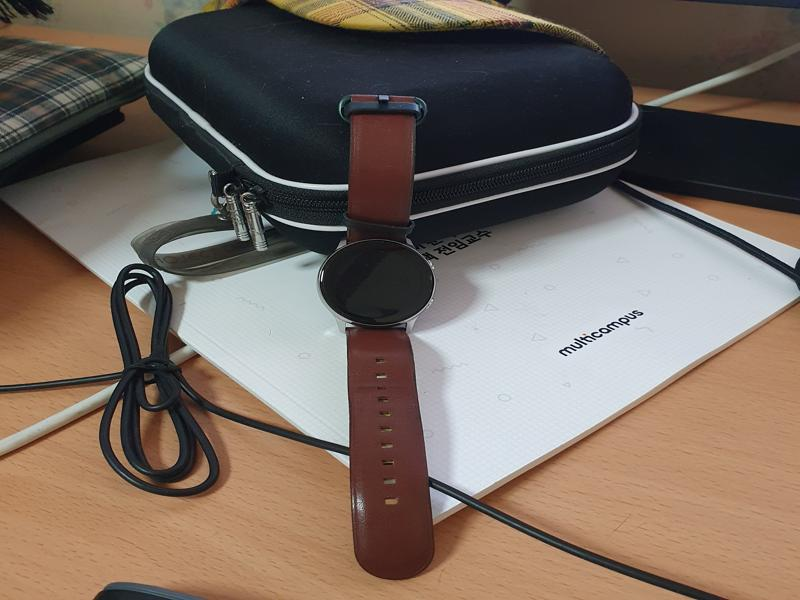watch: (318, 88, 437, 579)
